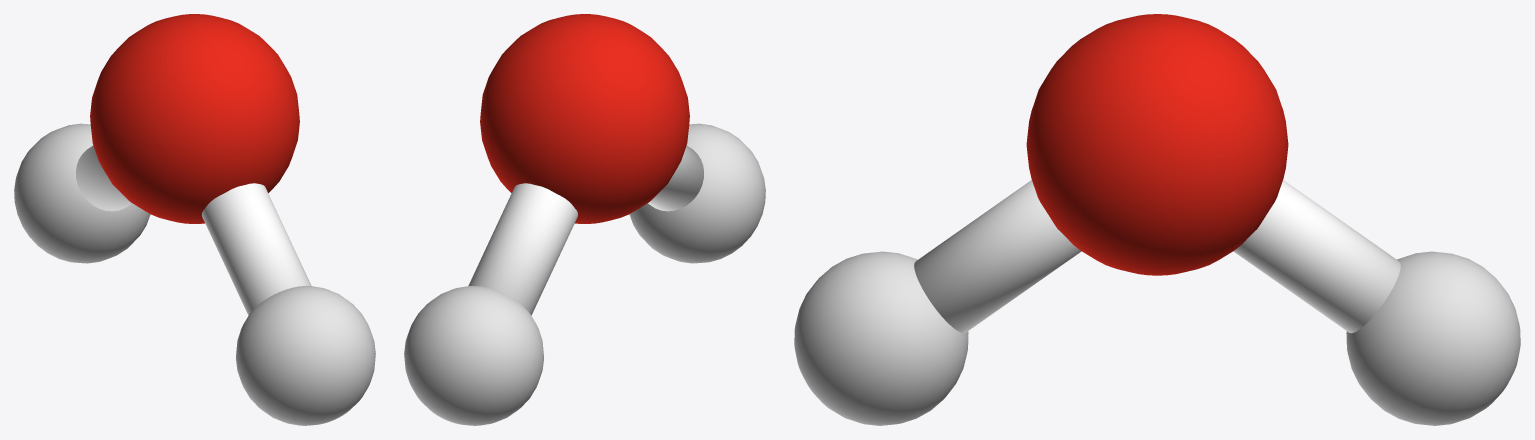
3 renders of one model, left to right at view 1: azimuth 30°, elevation 25°; view 2: azimuth 150°, elevation 25°; view 3: azimuth 270°, elevation 25°, orthographic. The views are drawn at different scales.
Visible parts, largest first — view 1: hydrogen.001; view 2: hydrogen.001; view 3: hydrogen.001.
Boxes of the visible parts, x1,y1,x2,y2 form: hydrogen.001: (14,14,375,425); hydrogen.001: (404,14,765,425); hydrogen.001: (794,14,1520,425).
Bounding box in the file's own units: 150 × 247 × 416.
